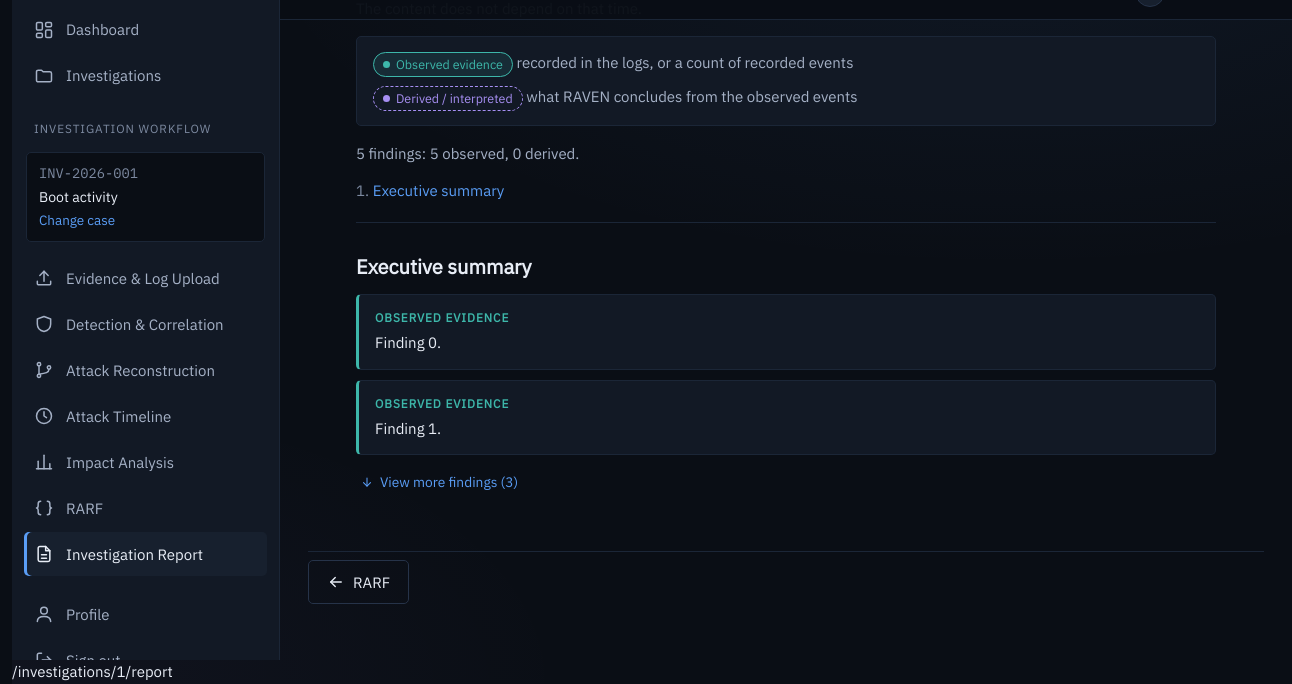
Test case: Report: the document › collapses the extra findings of a long section behind View more findings
(page scrolled)
Check: the text "Finding 0." is shown, box x1=375 y1=334 x2=441 y2=352
Check: the text "Finding 1." is shown, box x1=375 y1=419 x2=441 y2=438
Step 1. Click the button "View more findings (3)" → (439, 482), box x1=356 y1=465 x2=522 y2=499
(page scrolled)
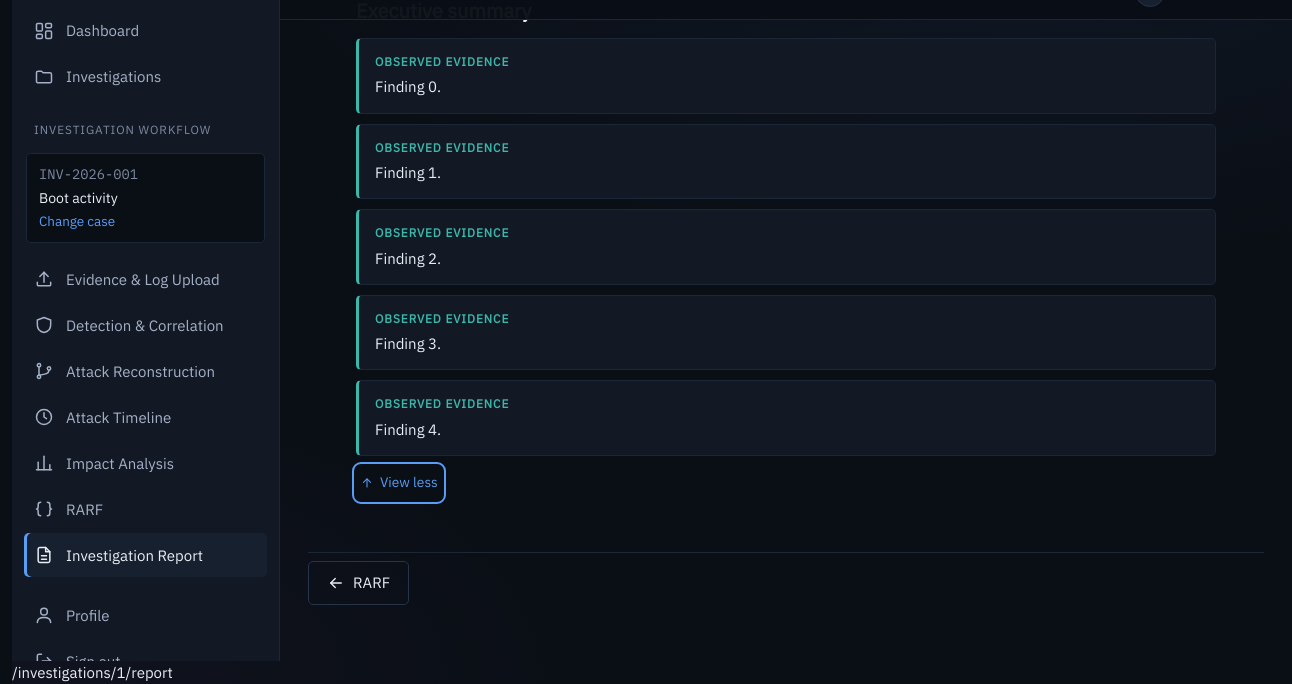
Check: the button "View less" is expanded, box x1=356 y1=466 x2=442 y2=500
